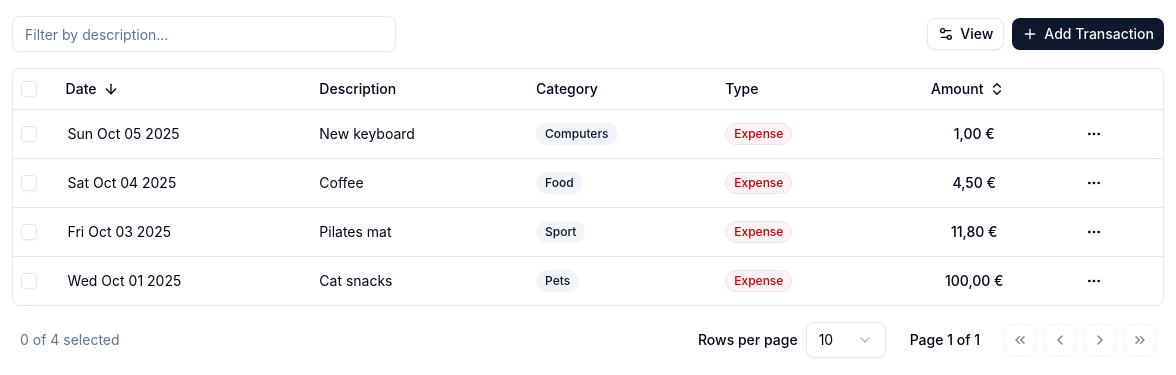
TransactionsTable › toggles column visibility
What coordinates should you click on to do the following:
click the button "View"
I would click on:
 (966, 34)
Its box is [927, 18, 1004, 50].
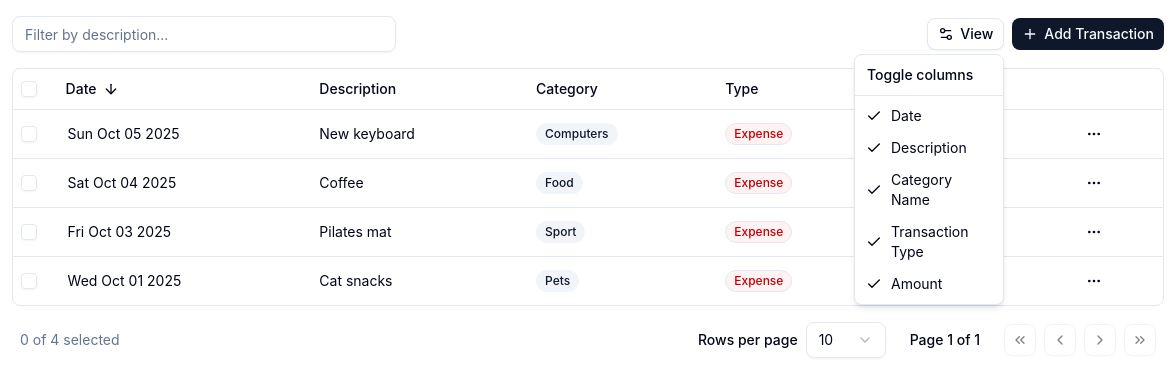
What coordinates should you click on to do the following:
click the menu item "category name"
I would click on:
 (909, 190)
Its box is [866, 171, 952, 208].
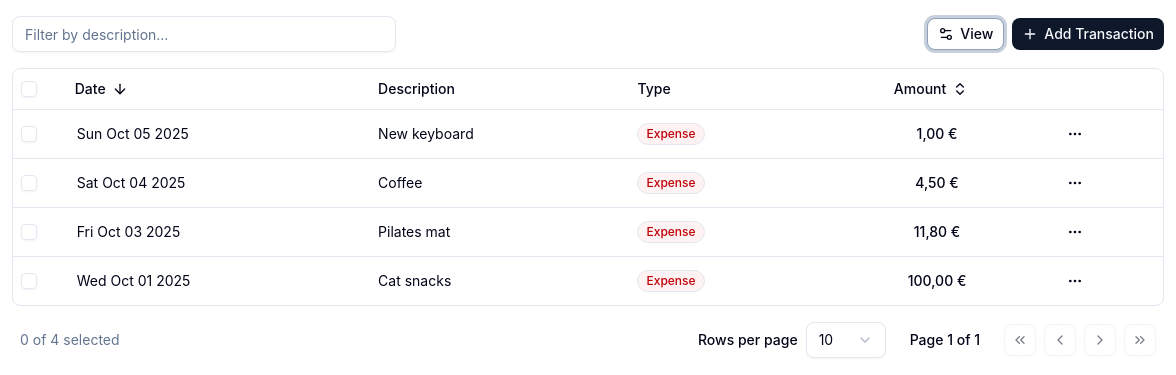
Check: the text "Food" is gone
// toggle back
What coordinates should you click on to do the following:
click the button "View"
I would click on:
 (966, 34)
Its box is [927, 18, 1004, 50].
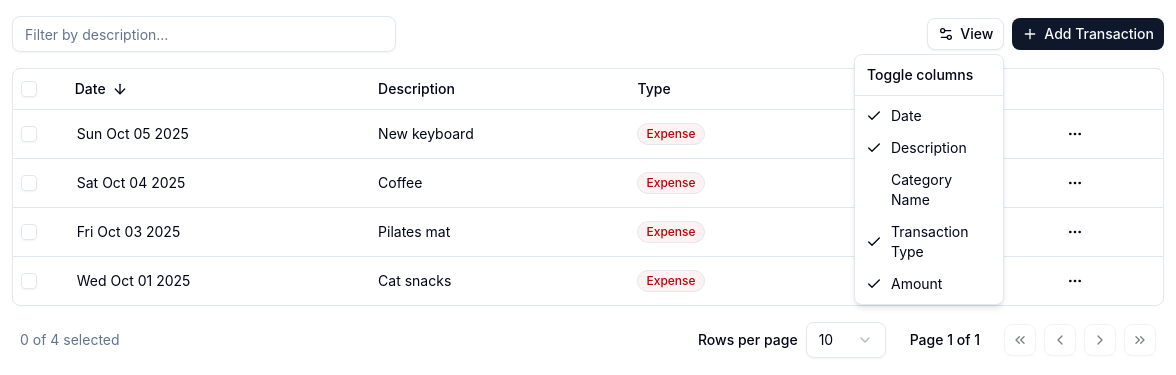
What coordinates should you click on to do the following:
click the menu item "category name"
I would click on:
 (922, 190)
Its box is [891, 171, 952, 208].
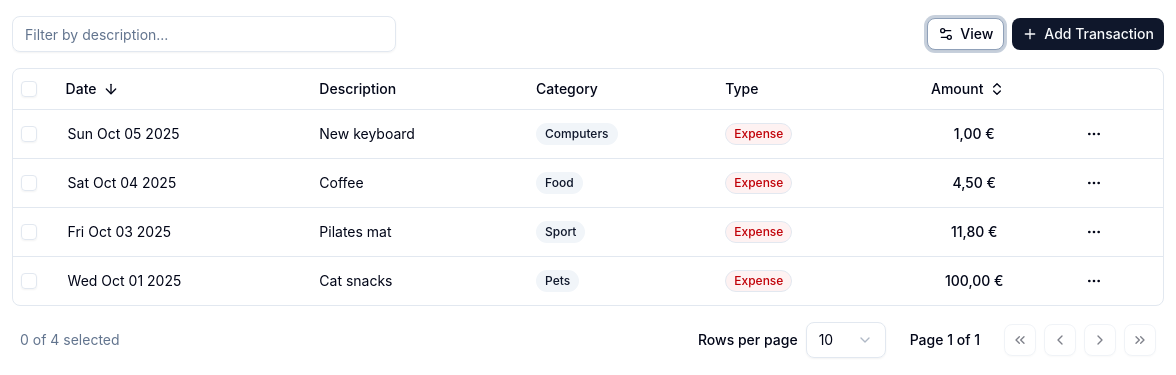
Check: the text "Food" is shown, box [536, 172, 583, 194]
